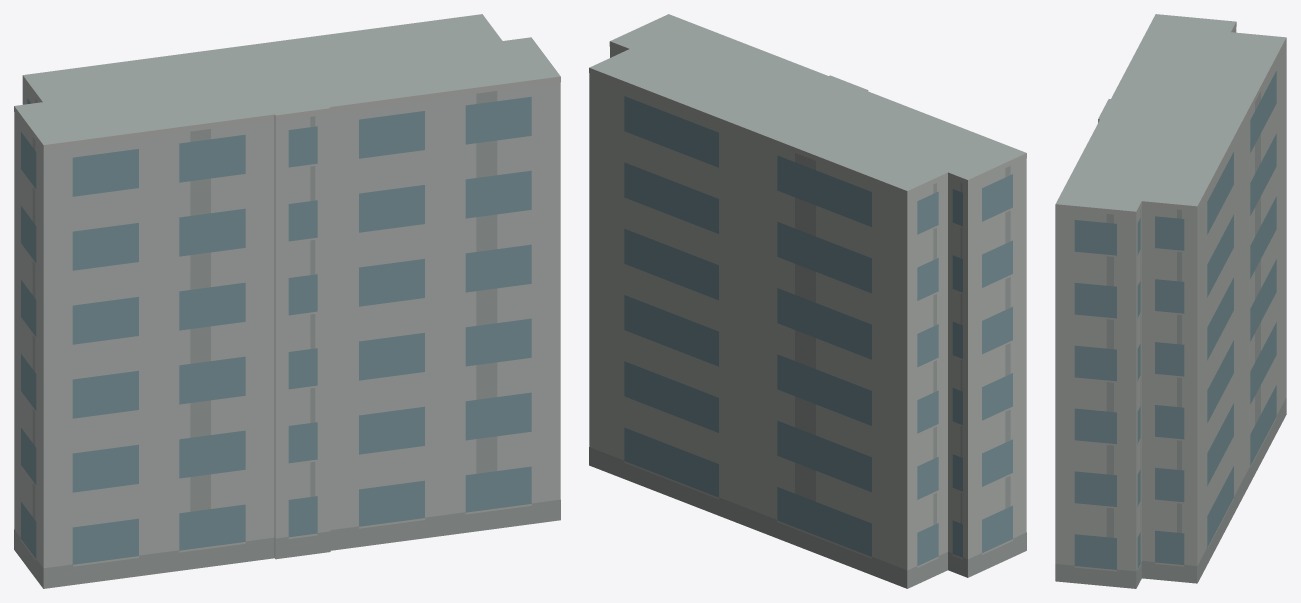
File: survey-upis-32553944.glb
3 renders of one model, left to right at view 1: azimuth 30°, elevation 25°; view 2: azimuth 150°, elevation 25°; view 3: azimuth 270°, elevation 25°, orthographic. The views are drawn at different scales.
Parts seen in each view (by area): view 1: survey-upis-32553944.tmp; view 2: survey-upis-32553944.tmp; view 3: survey-upis-32553944.tmp.
Part boxes in pixels (x1,y1,x2,y2): survey-upis-32553944.tmp: [14, 14, 560, 588]; survey-upis-32553944.tmp: [589, 14, 1026, 588]; survey-upis-32553944.tmp: [1055, 14, 1286, 588].
Bounding box in the file's own units: 20.58 × 18.3 × 10.17.
